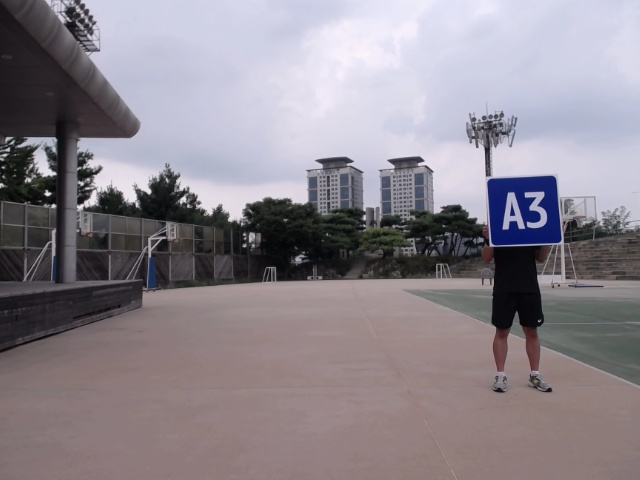delivery_a3: (486, 175, 563, 246)
